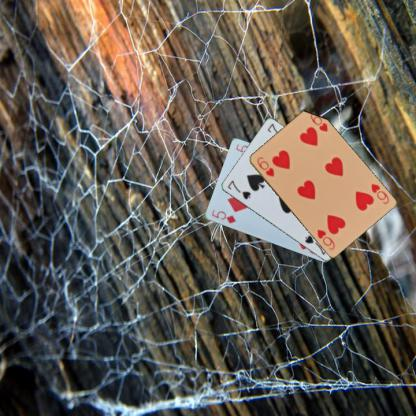5d: (208, 207, 237, 225)
6h: (368, 181, 390, 205), (254, 154, 275, 178)
7s: (225, 178, 252, 200)
